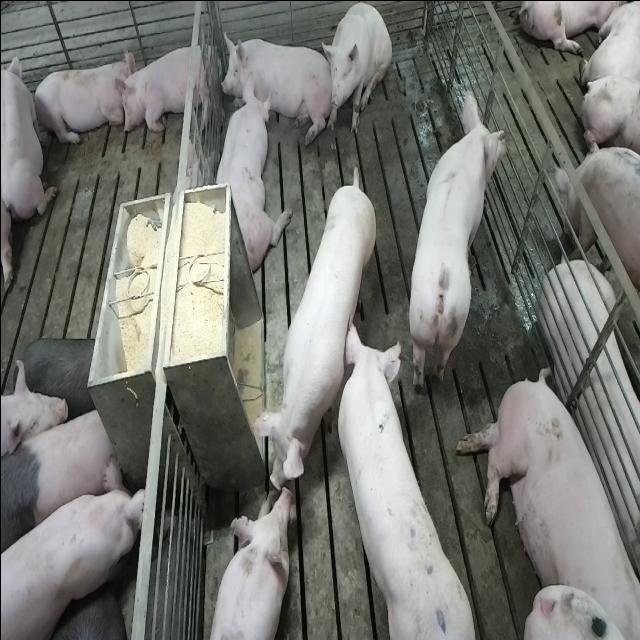Lateral_lying: (453, 362, 635, 636), (538, 258, 640, 580)
Sitting: (322, 3, 391, 138)
Standing: (334, 333, 480, 640), (252, 173, 378, 492), (406, 89, 506, 399), (1, 466, 143, 640), (1, 398, 118, 573), (552, 145, 640, 359)
Sternal_lying: (210, 84, 284, 274), (202, 482, 290, 638), (219, 27, 327, 138), (2, 42, 56, 224), (117, 38, 215, 138), (31, 52, 130, 150)
